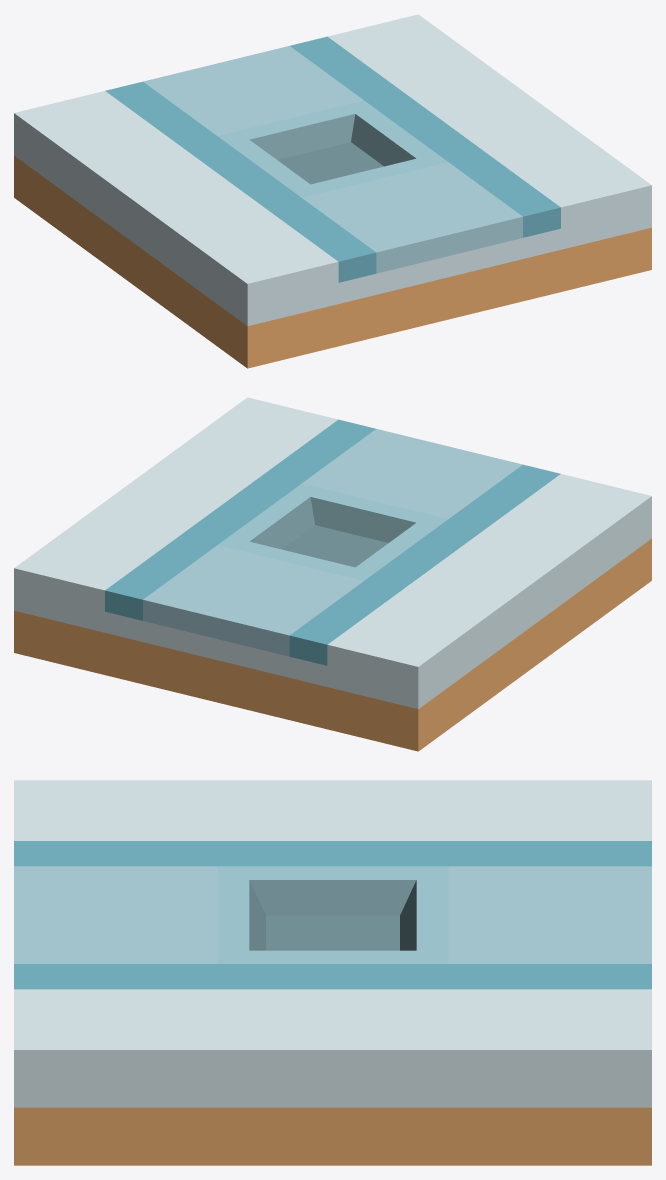
The model's file is snow_tile_spawn(+).fbx.
The picture shows the model from 3 angles, top to bottom: view 1: azimuth 30°, elevation 25°; view 2: azimuth 150°, elevation 25°; view 3: azimuth 270°, elevation 25°; orthographic projection. The views are drawn at different scales.
Visible parts, largest first — view 1: Mesh_5; view 2: Mesh_5; view 3: Mesh_5.
Part boxes in pixels (x1,y1,x2,y2): Mesh_5: (14,14,651,368); Mesh_5: (14,397,651,751); Mesh_5: (14,780,651,1165).
Bounding box in the file's own units: 100 × 20 × 100.
